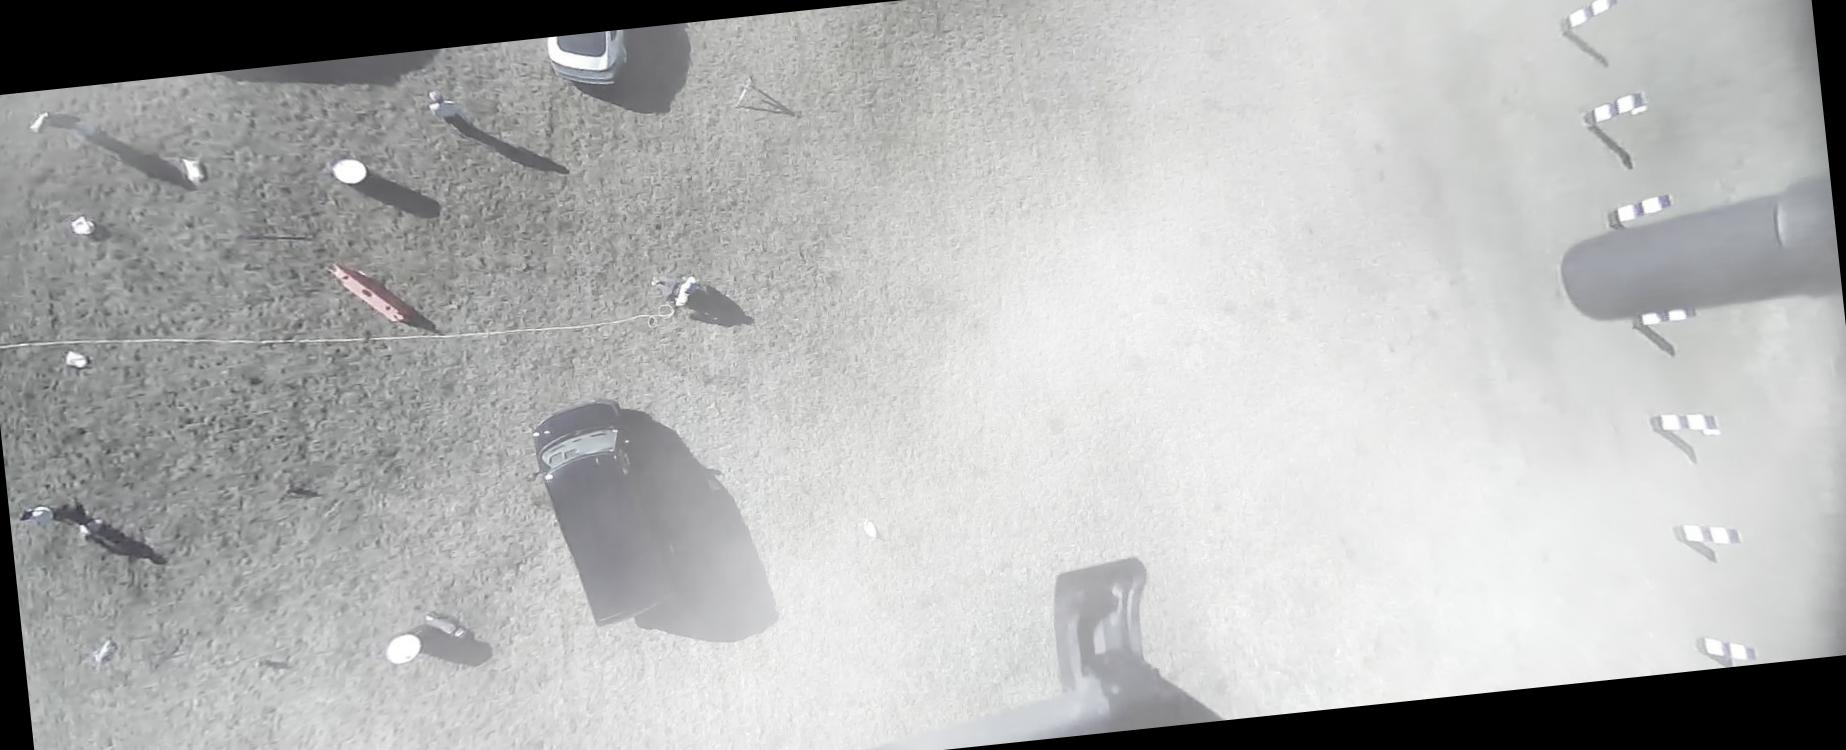vehicle: (519, 390, 690, 635), (546, 29, 632, 91)
